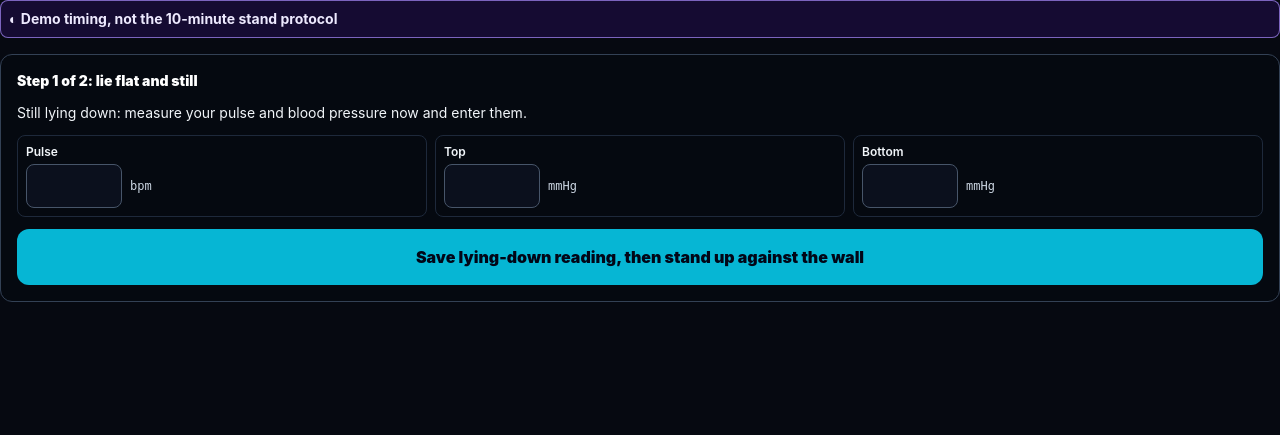
T-5 StandTest screen › marks a checkpoint missed when the next one comes due
Earlier steps of the test are not shown.
Type "60" into the field with test id "stand-heart_rate" at (74, 186), box x1=26 y1=164 x2=122 y2=208
Type "118" into the field with test id "stand-bp_systolic" at (492, 186), box x1=444 y1=164 x2=540 y2=208
Type "76" into the field with test id "stand-bp_diastolic" at (910, 186), box x1=862 y1=164 x2=958 y2=208
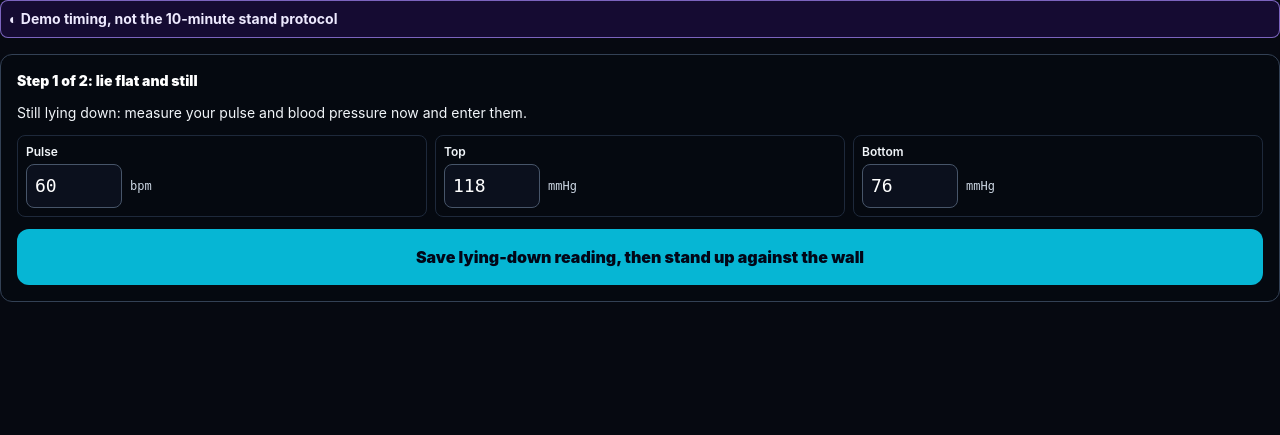
Click the button with test id "stand-save-supine" at (640, 257), box x1=17 y1=229 x2=1263 y2=285
Wait 18000 ms
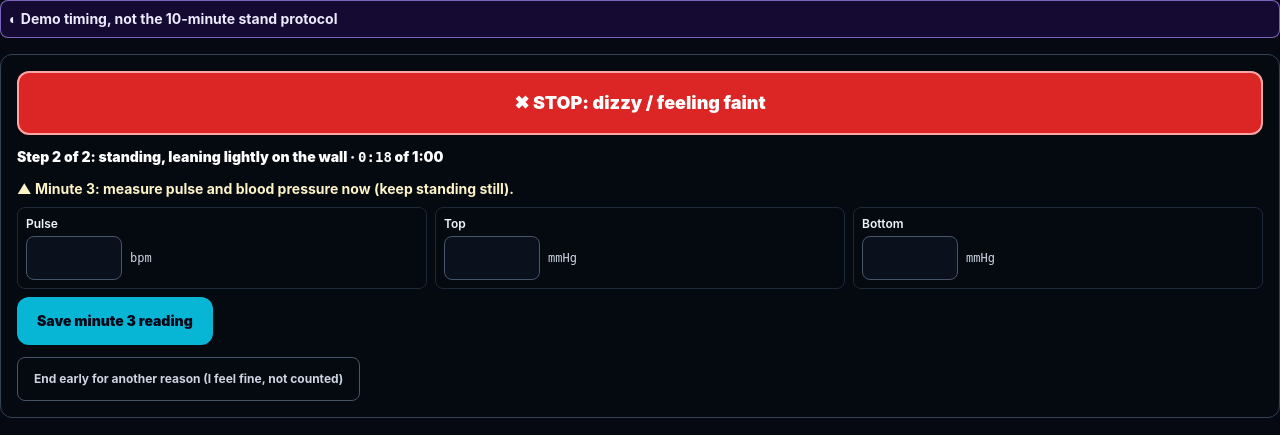
Check: the element with test id "stand-checkpoint-3" is shown, box x1=17 y1=179 x2=1263 y2=345
Type "70" into the field with test id "stand-heart_rate" at (74, 258), box x1=26 y1=236 x2=122 y2=280
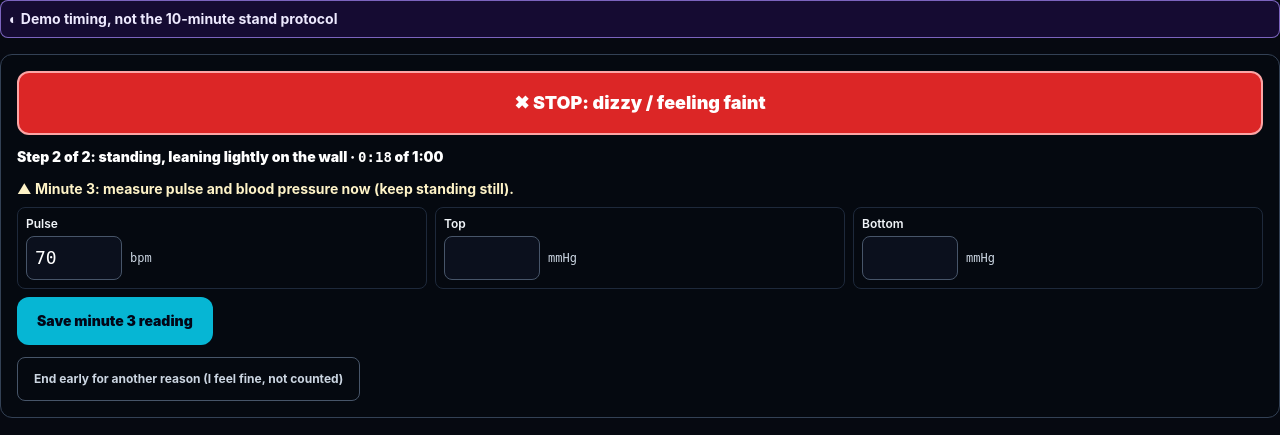
Type "116" into the field with test id "stand-bp_systolic" at (492, 258), box x1=444 y1=236 x2=540 y2=280
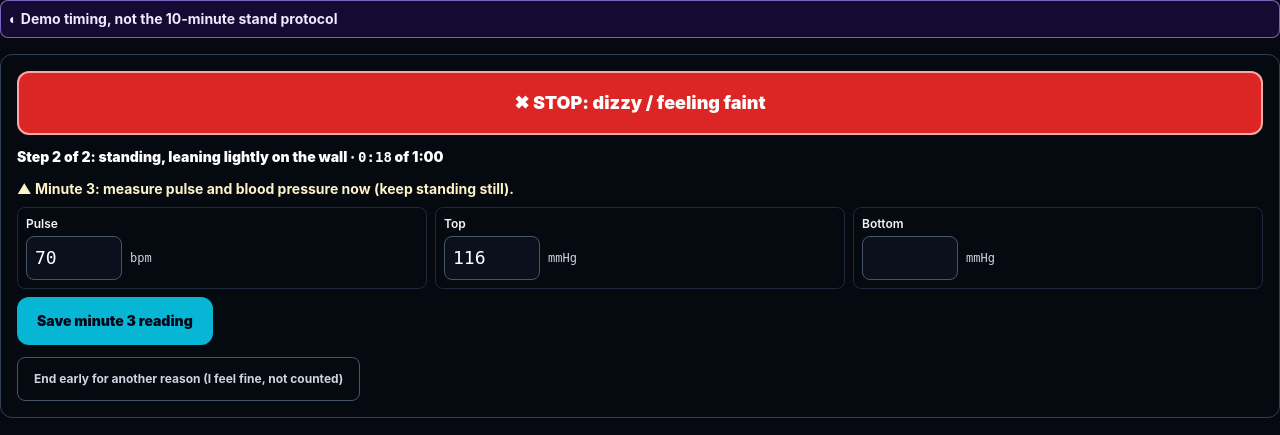
Type "78" into the field with test id "stand-bp_diastolic" at (910, 258), box x1=862 y1=236 x2=958 y2=280
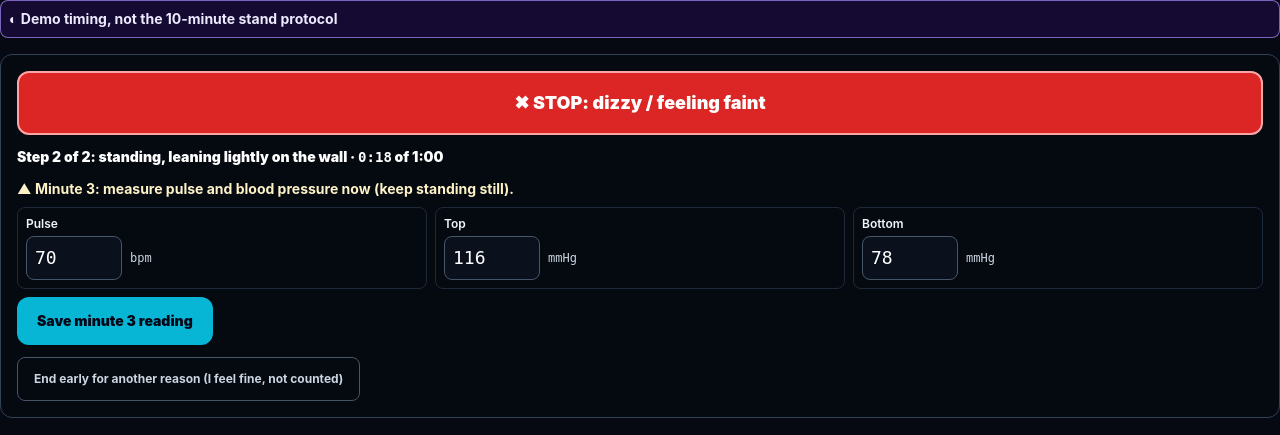
Click the button with test id "stand-save-reading" at (115, 321), box x1=17 y1=297 x2=213 y2=345
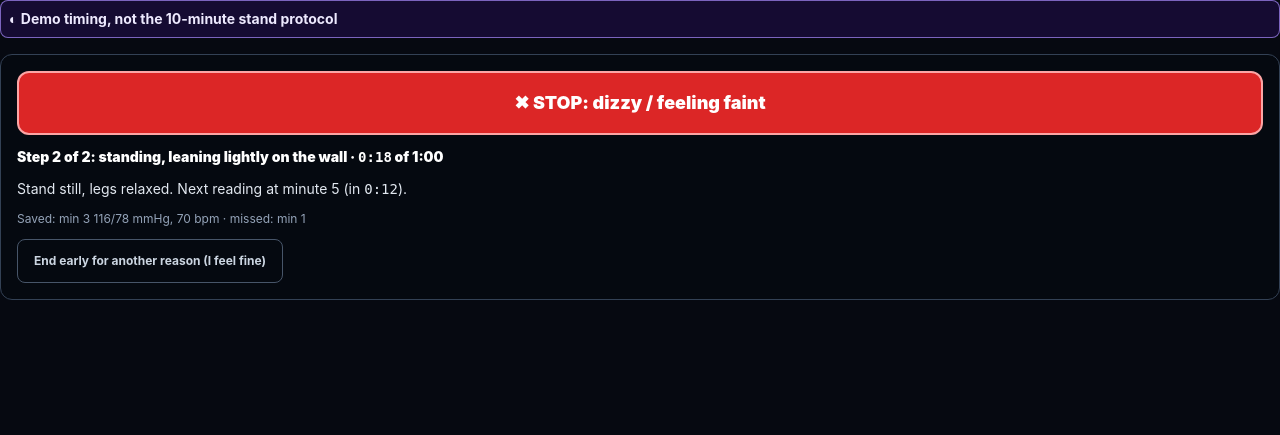
Check: the text with test id "stand-captured" shows "missed: min 1", box x1=220 y1=211 x2=306 y2=226
